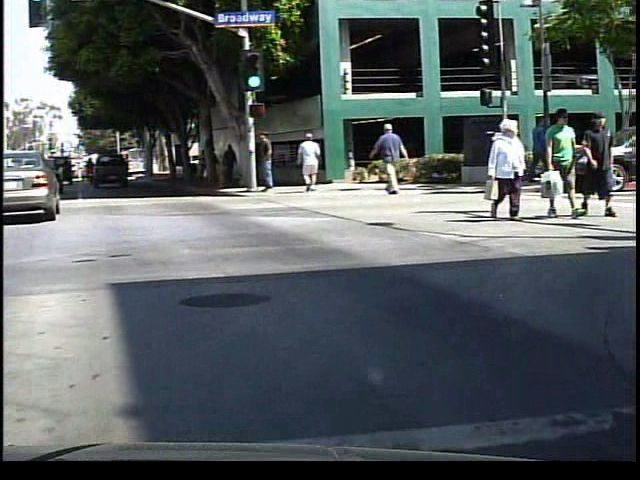person: (488, 117, 541, 226), (584, 108, 623, 218), (547, 106, 584, 221), (375, 122, 415, 195), (530, 111, 558, 186), (262, 125, 288, 199), (302, 130, 330, 195), (225, 139, 246, 190), (212, 145, 228, 188)
